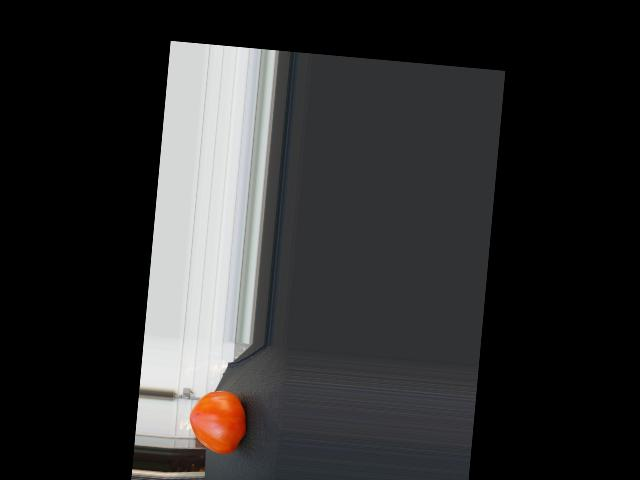tomato: (186, 387, 249, 455)
